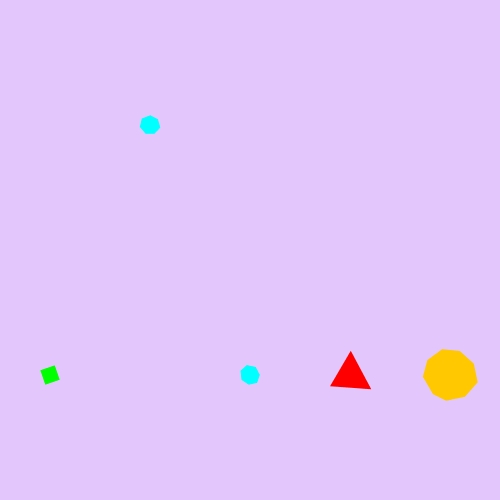heptagon: (136, 111, 165, 139), (236, 361, 265, 389)
nonagon: (420, 346, 481, 404)
quadrilateral: (35, 360, 65, 390)
triangle: (328, 352, 372, 399)
